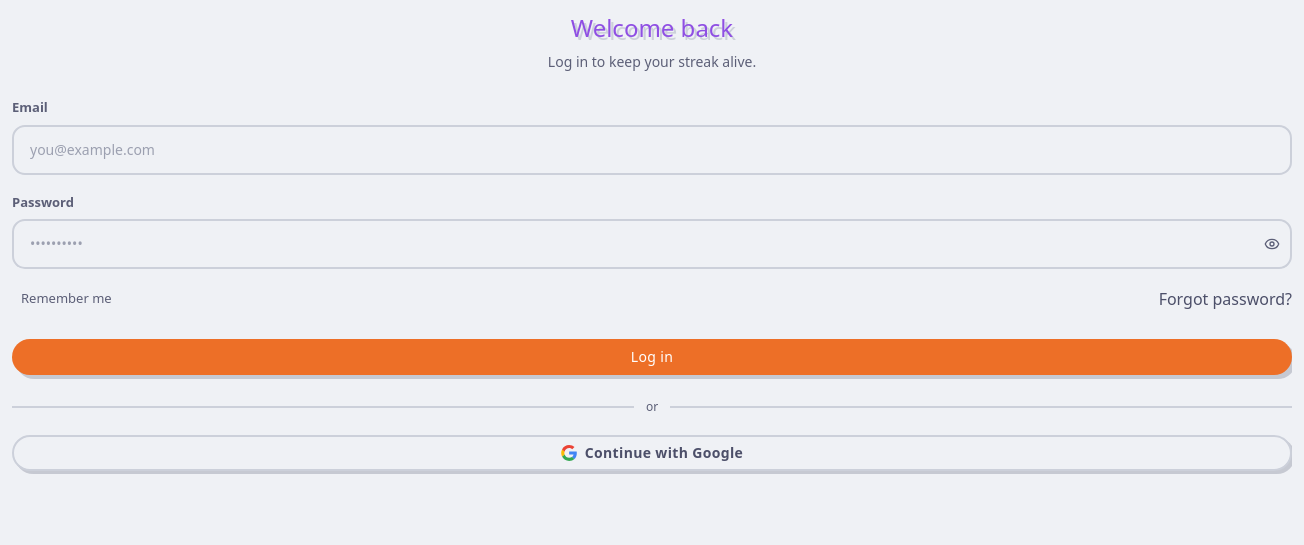
Scenario: LoginPage › does not submit invalid credentials
What coordinates should you click on to do the following:
click the button "Log in"
I would click on:
 (652, 357)
Its box is [12, 339, 1292, 375].
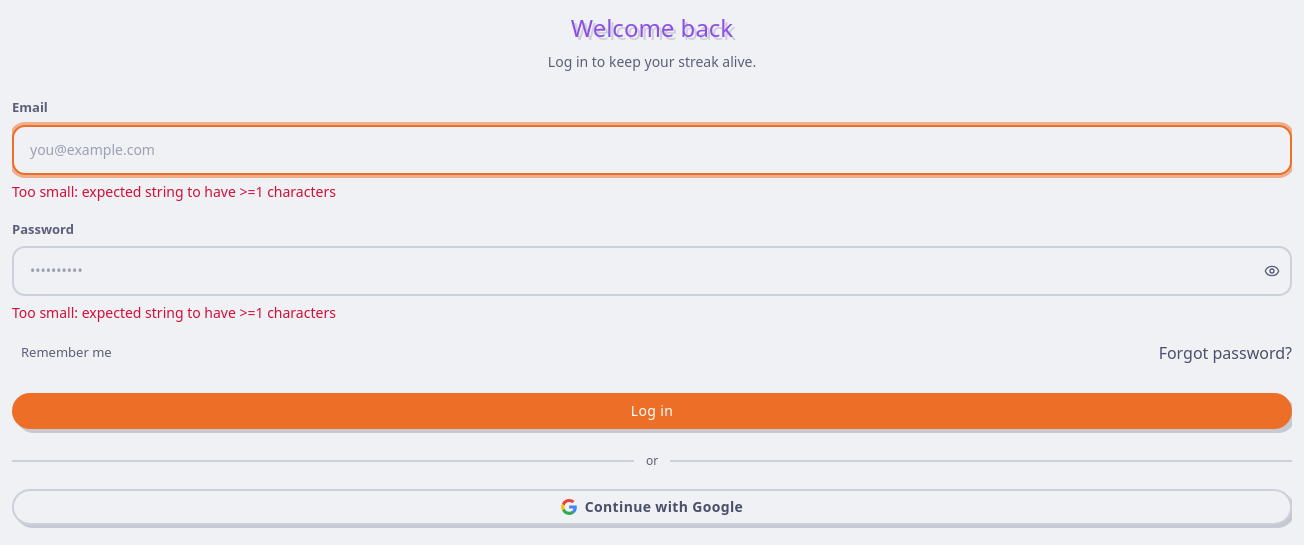
Result: the text "Too small: expected string to have >=1 characters" below "Email" is shown at [12, 182, 336, 200]
